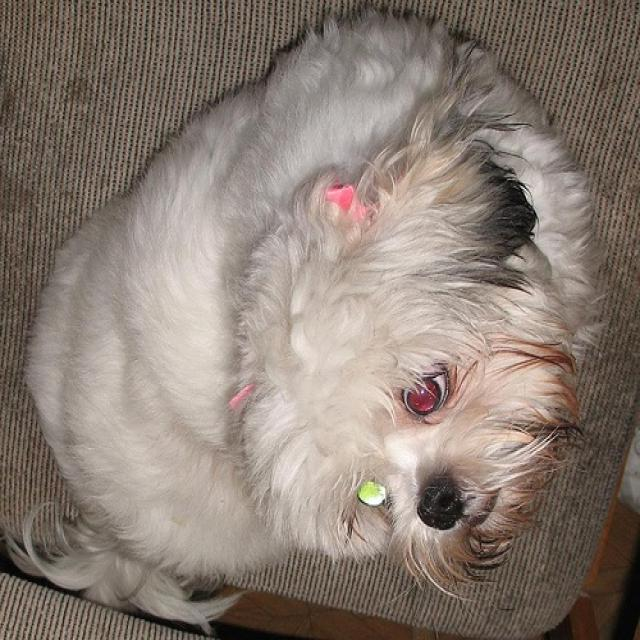dog: (4, 9, 603, 632)
